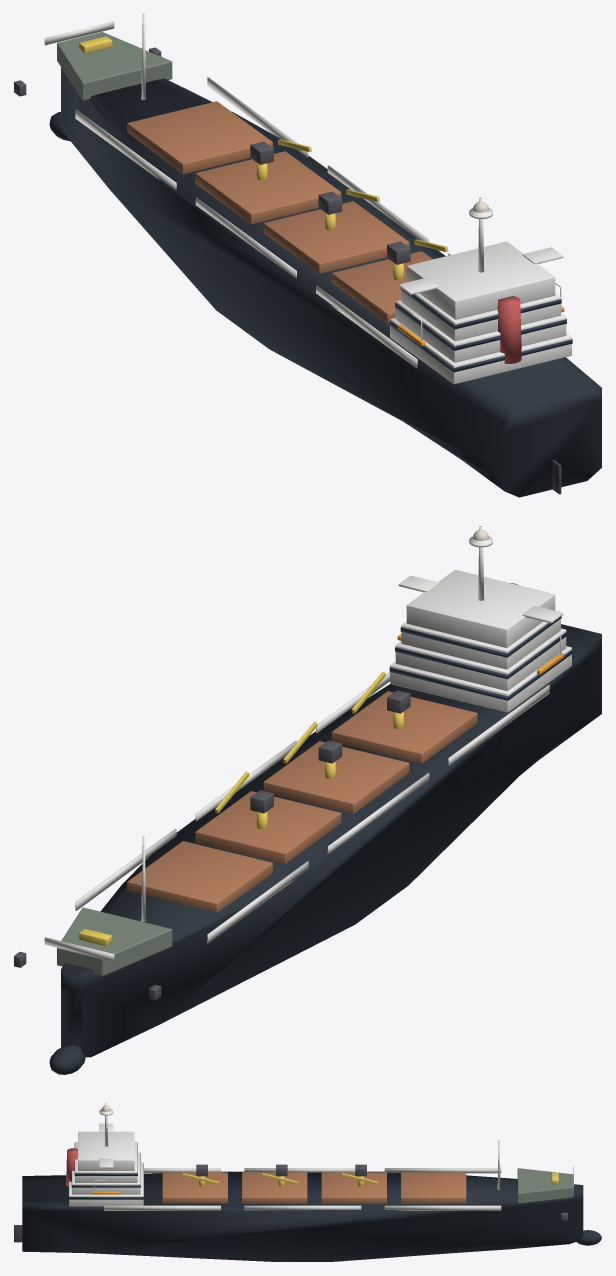
The model's file is ShipHull_VR_v2.0.glb.
3 views of the same model, one above another, from view 1: azimuth 30°, elevation 25°; view 2: azimuth 150°, elevation 25°; view 3: azimuth 270°, elevation 25° (orthographic). The views are drawn at different scales.
Parts seen in each view (by area): view 1: ship_hull, super_deck_4, cargo_hatch_1, cargo_hatch_2, cargo_hatch_3, forecastle, super_deck_1, cargo_hatch_4, super_deck_2, super_deck_3, funnel, bulwark_port_seg_1 (+7 smaller); view 2: ship_hull, super_deck_4, cargo_hatch_1, cargo_hatch_2, cargo_hatch_3, cargo_hatch_4, forecastle, super_deck_1, super_deck_2, super_deck_3, bulwark_port_seg_3, bulwark_port_seg_1 (+7 smaller); view 3: ship_hull, super_deck_4, cargo_hatch_1, cargo_hatch_3, cargo_hatch_2, cargo_hatch_4, forecastle, super_deck_1, super_deck_2, super_deck_3, bulwark_starboard_seg_1, bulwark_starboard_seg_3 (+9 smaller).
Part boxes in pixels (left/top/right/bottom): ship_hull: left=61, top=67, right=601, bottom=497; super_deck_4: left=406, top=241, right=555, bottom=319; cargo_hatch_1: left=127, top=101, right=272, bottom=174; cargo_hatch_2: left=195, top=151, right=341, bottom=224; cargo_hatch_3: left=263, top=201, right=409, bottom=273; forecastle: left=57, top=32, right=172, bottom=100; super_deck_1: left=390, top=318, right=571, bottom=384; cargo_hatch_4: left=331, top=251, right=432, bottom=323; super_deck_2: left=395, top=300, right=566, bottom=362; super_deck_3: left=401, top=282, right=560, bottom=341; funnel: left=497, top=296, right=521, bottom=363; bulwark_port_seg_1: left=316, top=286, right=417, bottom=367; ship_hull: left=61, top=624, right=601, bottom=1057; super_deck_4: left=406, top=570, right=555, bottom=647; cargo_hatch_1: left=127, top=841, right=272, bottom=912; cargo_hatch_2: left=195, top=791, right=341, bottom=864; cargo_hatch_3: left=263, top=741, right=409, bottom=813; cargo_hatch_4: left=331, top=691, right=477, bottom=763; forecastle: left=57, top=907, right=172, bottom=976; super_deck_1: left=390, top=646, right=571, bottom=712; super_deck_2: left=395, top=628, right=566, bottom=690; super_deck_3: left=401, top=610, right=560, bottom=669; bulwark_port_seg_3: left=207, top=861, right=308, bottom=943; bulwark_port_seg_1: left=448, top=684, right=549, bottom=765; ship_hull: left=22, top=1171, right=583, bottom=1261; super_deck_4: left=78, top=1131, right=134, bottom=1170; cargo_hatch_1: left=401, top=1172, right=466, bottom=1203; cargo_hatch_3: left=242, top=1172, right=307, bottom=1203; cargo_hatch_2: left=321, top=1172, right=386, bottom=1203; cargo_hatch_4: left=162, top=1172, right=227, bottom=1203; forecastle: left=517, top=1168, right=573, bottom=1203; super_deck_1: left=69, top=1162, right=143, bottom=1206; super_deck_2: left=72, top=1152, right=140, bottom=1194; super_deck_3: left=75, top=1142, right=137, bottom=1182; bulwark_starboard_seg_1: left=104, top=1205, right=220, bottom=1210; bulwark_starboard_seg_3: left=384, top=1205, right=501, bottom=1210.
Bounding box in the file's own units: 22 × 33.3 × 126.
